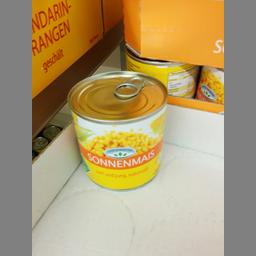corn: (65, 70, 166, 188)
